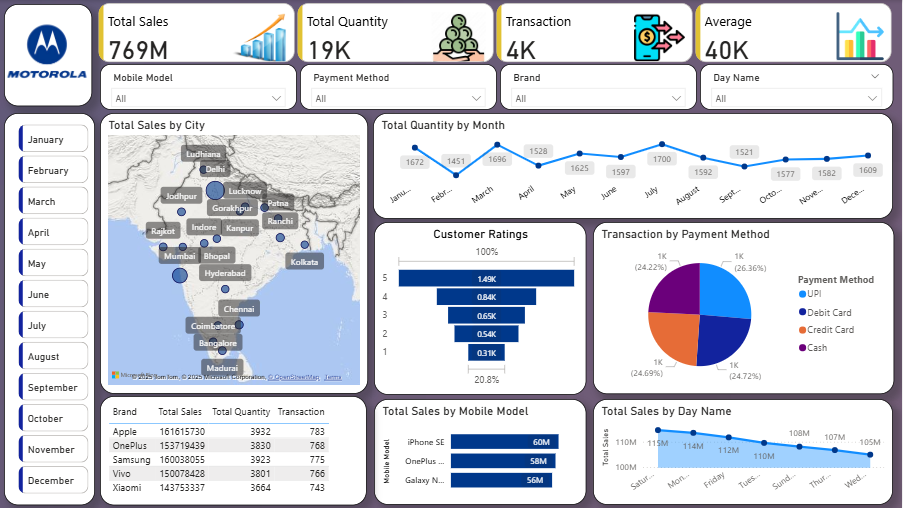

What the dashboard file says about the page in this screenshot:
{"tool":"powerbi","page":{"name":"Page 1","canvas":[1280,720],"ordinal":0},"visuals":[{"type":"shape","box":[8.5,5.7,124.7,144.6],"z":0},{"type":"image","box":[8.5,5.7,121.9,134.6],"z":1000},{"type":"shape","box":[8.4,159.6,129.3,556],"z":2000},{"type":"cardVisual","fields":{"Data":["Sales_data.Total Sales","Sales_data.Total Quantity","Sales_data.Transaction","Sales_data.Average"]},"box":[137.5,4.3,1136.7,95],"z":3000},{"type":"advancedSlicerVisual","fields":{"Values":["Sales_data.Date.Variation.Date Hierarchy.Month"]},"box":[24.1,171.5,109.1,544.3],"z":4000},{"type":"map","fields":{"Category":["Sales_data.City"],"Size":["Sales_data.Total Sales"]},"box":[144.5,159.6,379.6,398.1],"z":5000},{"type":"lineChart","fields":{"Y":["Sales_data.Total Quantity"],"Category":["Sales_data.Date.Variation.Date Hierarchy.Month","Sales_data.Date.Variation.Date Hierarchy.Day"]},"box":[531.5,160.2,737,150.2],"z":6000},{"type":"clusteredBarChart","fields":{"Category":["Sales_data.Mobile Model"],"Y":["Sales_data.Total Sales"]},"box":[532.5,566.1,300.7,149.5],"z":7000},{"type":"pieChart","fields":{"Category":["Sales_data.Payment Method"],"Y":["Sales_data.Transaction"]},"box":[843.3,314.1,426.7,243.6],"z":8000},{"type":"funnel","title":"Customer Ratings","fields":{"Y":["CountNonNull(Sales_data.Customer Ratings)"],"Category":["Sales_data.Customer Ratings"]},"box":[532.5,314.1,300.7,245.2],"z":9000},{"type":"areaChart","fields":{"Category":["Sales_data.Day Name"],"Y":["Sales_data.Total Sales"]},"box":[843.3,566.1,425,149.5],"z":10000},{"type":"tableEx","fields":{"Values":["Sales_data.Brand","Sales_data.Total Sales","Sales_data.Total Quantity","Sales_data.Transaction"]},"box":[144.5,561,378,154.5],"z":11000},{"type":"slicer","fields":{"Values":["Sales_data.Mobile Model"]},"box":[144.6,90.7,279.2,65.2],"z":12000},{"type":"slicer","fields":{"Values":["Sales_data.Payment Method"]},"box":[428,90.7,279.2,65.2],"z":13000},{"type":"slicer","fields":{"Values":["Sales_data.Brand"]},"box":[711.5,90.7,279.2,65.2],"z":14000},{"type":"slicer","fields":{"Values":["Sales_data.Day Name"]},"box":[995,90.7,273.5,65.2],"z":15000}]}

Visuals, with their boxes in screenshot pixels (x1, y1, x2, y2), scaled from the page's 1280x720 canvas onto the 903x508 screenshot:
shape: detection(6, 4, 94, 106)
image: detection(6, 4, 92, 99)
shape: detection(6, 113, 97, 505)
cardVisual - Sales_data.Total Sales x Sales_data.Total Quantity: detection(97, 3, 899, 70)
advancedSlicerVisual - Sales_data.Date.Variation.Date Hierarchy.Month: detection(17, 121, 94, 505)
map - Sales_data.City x Sales_data.Total Sales: detection(102, 113, 370, 393)
lineChart - Sales_data.Total Quantity x Sales_data.Date.Variation.Date Hierarchy.Month: detection(375, 113, 895, 219)
clusteredBarChart - Sales_data.Mobile Model x Sales_data.Total Sales: detection(376, 399, 588, 505)
pieChart - Sales_data.Payment Method x Sales_data.Transaction: detection(595, 222, 896, 393)
"Customer Ratings" funnel: detection(376, 222, 588, 395)
areaChart - Sales_data.Day Name x Sales_data.Total Sales: detection(595, 399, 895, 505)
tableEx - Sales_data.Brand x Sales_data.Total Sales: detection(102, 396, 369, 505)
slicer - Sales_data.Mobile Model: detection(102, 64, 299, 110)
slicer - Sales_data.Payment Method: detection(302, 64, 499, 110)
slicer - Sales_data.Brand: detection(502, 64, 699, 110)
slicer - Sales_data.Day Name: detection(702, 64, 895, 110)
